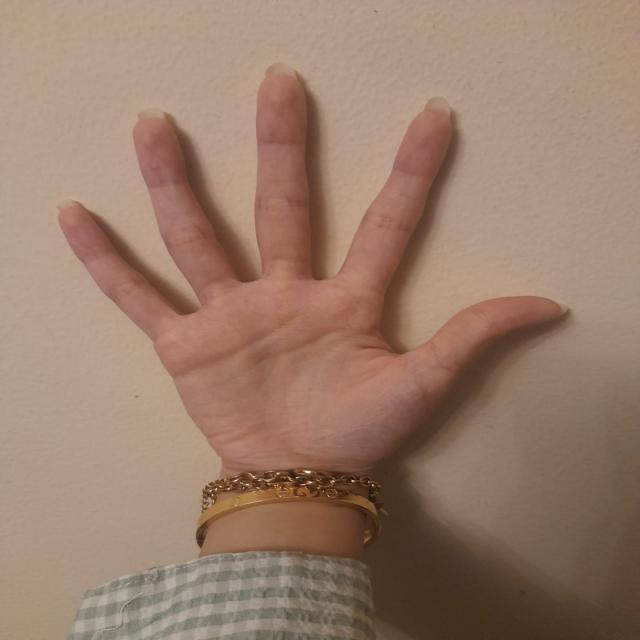Open Hand: (58, 75, 567, 469)
